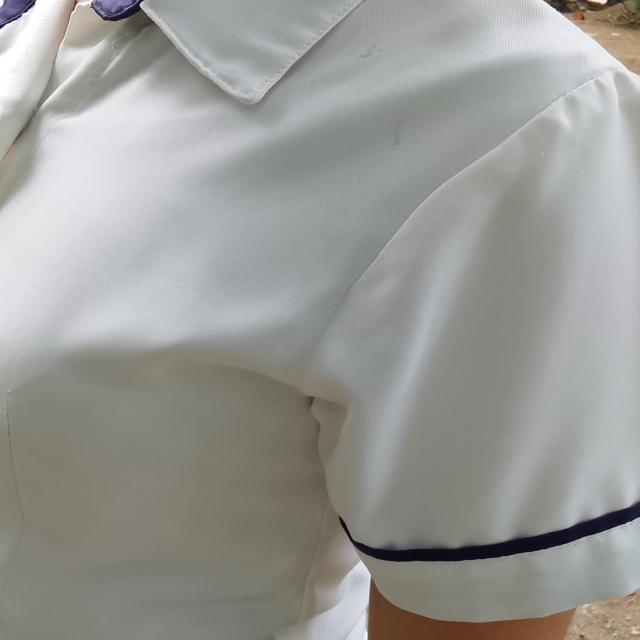education_female_uniform: (0, 4, 640, 630)
